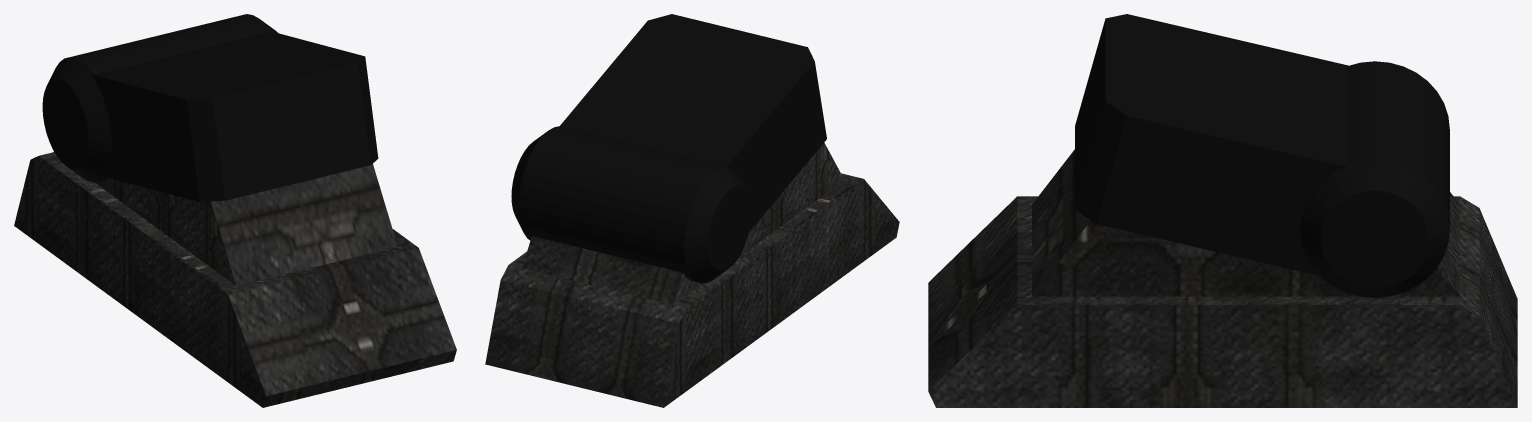
File: pie_izq.obj
The picture shows the model from 3 angles, left to right: view 1: azimuth 30°, elevation 25°; view 2: azimuth 150°, elevation 25°; view 3: azimuth 270°, elevation 25°; orthographic projection. The views are drawn at different scales.
Parts seen in each view (by area): view 1: pie_izq; view 2: pie_izq; view 3: pie_izq.
Boxes of the visible parts, x1,y1,x2,y2 form: pie_izq: (14,14,456,407); pie_izq: (485,14,899,407); pie_izq: (928,14,1517,407).
Size of the model in its own units: 2.6 by 2.97 by 5.41.
2 materials, 1 textured.
